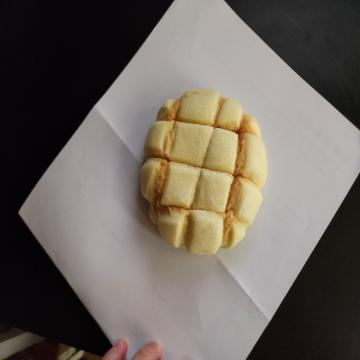melon_bread: (138, 90, 266, 256)
